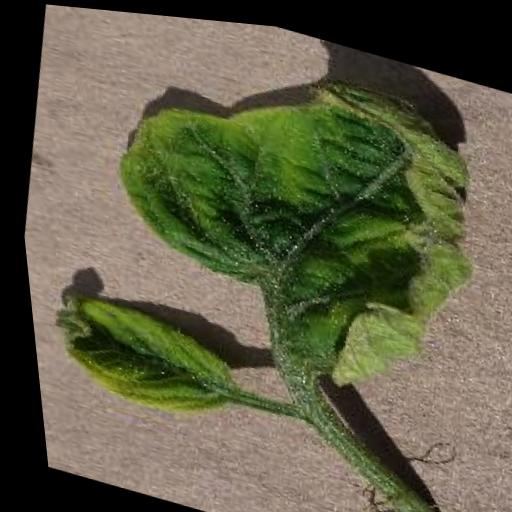Yellow Leaf Curl Virus: (74, 6, 512, 414), (28, 274, 247, 434)
